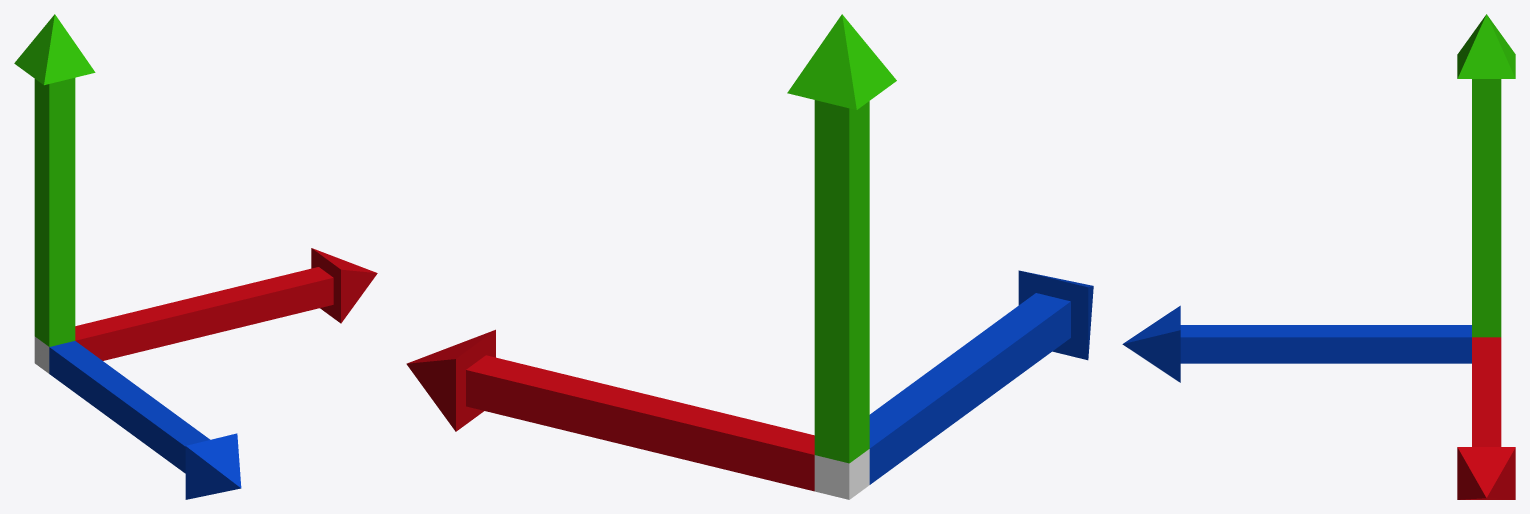
The model's file is axis.obj.
3 renders of one model, left to right at view 1: azimuth 30°, elevation 25°; view 2: azimuth 150°, elevation 25°; view 3: azimuth 270°, elevation 25°, orthographic. The views are drawn at different scales.
Visible parts, largest first — view 1: Cube_Material.003_0, Cube_Material.004_0, Cube_Material.002_0, Cube_Material.005_0; view 2: Cube_Material.003_0, Cube_Material.004_0, Cube_Material.002_0, Cube_Material.005_0; view 3: Cube_Material.002_0, Cube_Material.003_0, Cube_Material.004_0.
Boxes of the visible parts, <box> form: Cube_Material.003_0: <box>14,14,95,346</box>; Cube_Material.004_0: <box>75,248,377,360</box>; Cube_Material.002_0: <box>49,341,241,499</box>; Cube_Material.005_0: <box>34,336,49,373</box>; Cube_Material.003_0: <box>787,14,896,463</box>; Cube_Material.004_0: <box>406,329,814,491</box>; Cube_Material.002_0: <box>869,270,1093,484</box>; Cube_Material.005_0: <box>814,449,869,499</box>; Cube_Material.002_0: <box>1122,305,1471,382</box>; Cube_Material.003_0: <box>1457,14,1515,337</box>; Cube_Material.004_0: <box>1457,337,1515,499</box>.
Size of the model in its own units: 2.7 by 2.7 by 2.7.
